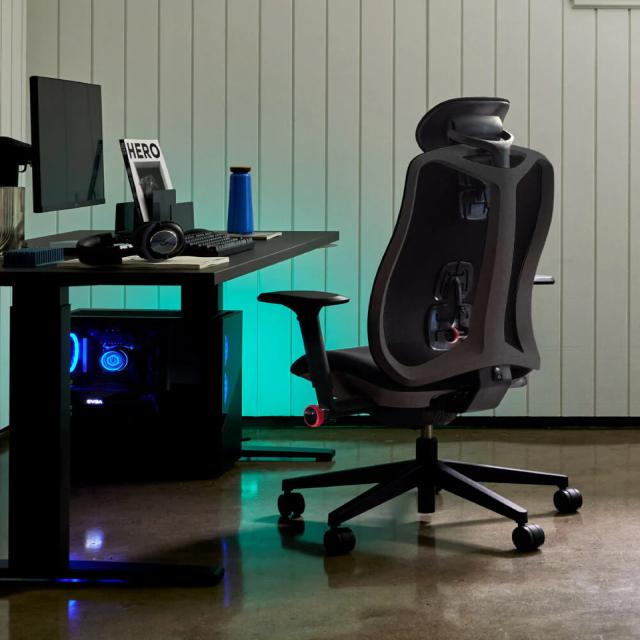Chair: (246, 86, 605, 567)
